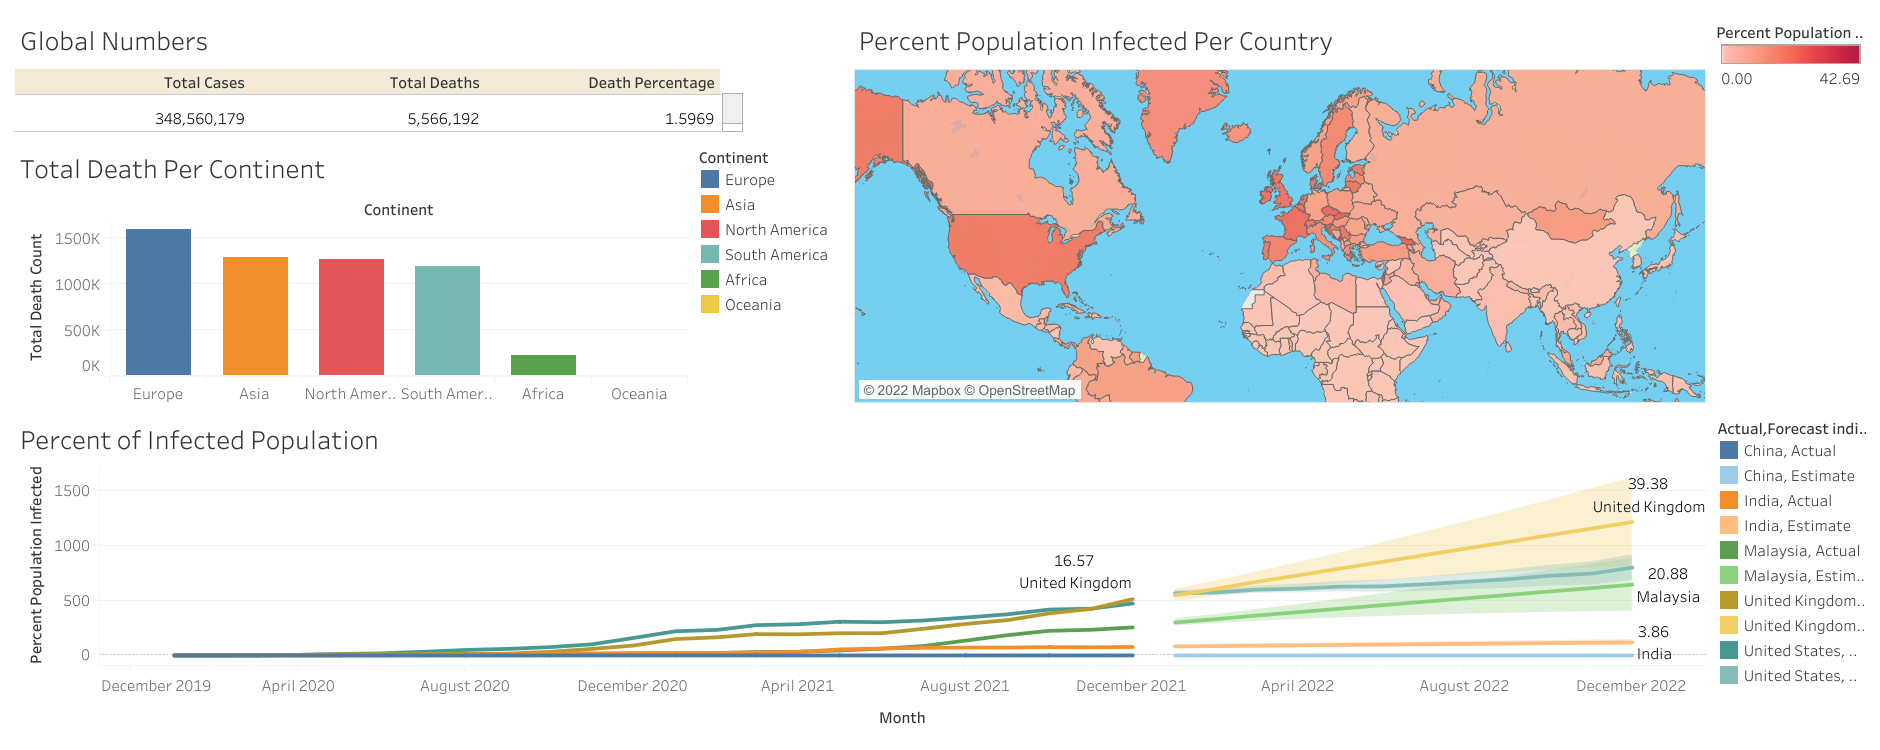

The dashboard page shown, as its layout file describes it:
{"tool":"tableau","page":{"name":"Dashboard 1","canvas":[1000,1000],"units":"permille","ordinal":0},"visuals":[{"type":"worksheet","title":"Sheet 1","mark":"Automatic","box":[4.8,9.2,446.6,170.7]},{"type":"worksheet","title":"Sheet 3","mark":"Automatic","box":[451.4,9.2,458.7,536.1]},{"type":"legend","title":"Sheet 3","param":"[federated.184bh3a0qhqkni11uod1g0sue4wm].[sum:PercentPopulationInfected:qk]","box":[910.1,9.2,85.1,536.1]},{"type":"worksheet","title":"Sheet 2","mark":"Automatic","rows":["TotalDeathCount"],"cols":["location"],"box":[4.8,179.8,363.3,365.4]},{"type":"legend","title":"Sheet 2","param":"[federated.18okmph0f3kr2615r8y4x0c7srt6].[none:location:nk]","box":[368.1,179.8,83.3,178.7]},{"type":"worksheet","title":"Sheet 4","mark":"Automatic","rows":["PercentPopulationInfected"],"cols":["date"],"box":[4.8,545.2,905.2,445.6]},{"type":"legend","title":"Sheet 4","param":"[federated.0eusg4e1g4wya01g01rok03of40w].[none:Location:nk]\n[federated.0eusg4e1g","box":[910.1,545.2,85.1,445.6]}]}

Visuals, with their boxes on the dashboard's canvas, which has no fixed pixel size, in thousandths of its width and height (x1, y1, x2, y2). These are canvas units, not pixel positions in the 1880x750 screenshot, which may show the page scaled, cropped or inside an application window:
"Sheet 1" worksheet: x1=5, y1=9, x2=451, y2=180
"Sheet 3" worksheet: x1=451, y1=9, x2=910, y2=545
"Sheet 3" legend: x1=910, y1=9, x2=995, y2=545
"Sheet 2" worksheet: x1=5, y1=180, x2=368, y2=545
"Sheet 2" legend: x1=368, y1=180, x2=451, y2=358
"Sheet 4" worksheet: x1=5, y1=545, x2=910, y2=991
"Sheet 4" legend: x1=910, y1=545, x2=995, y2=991
